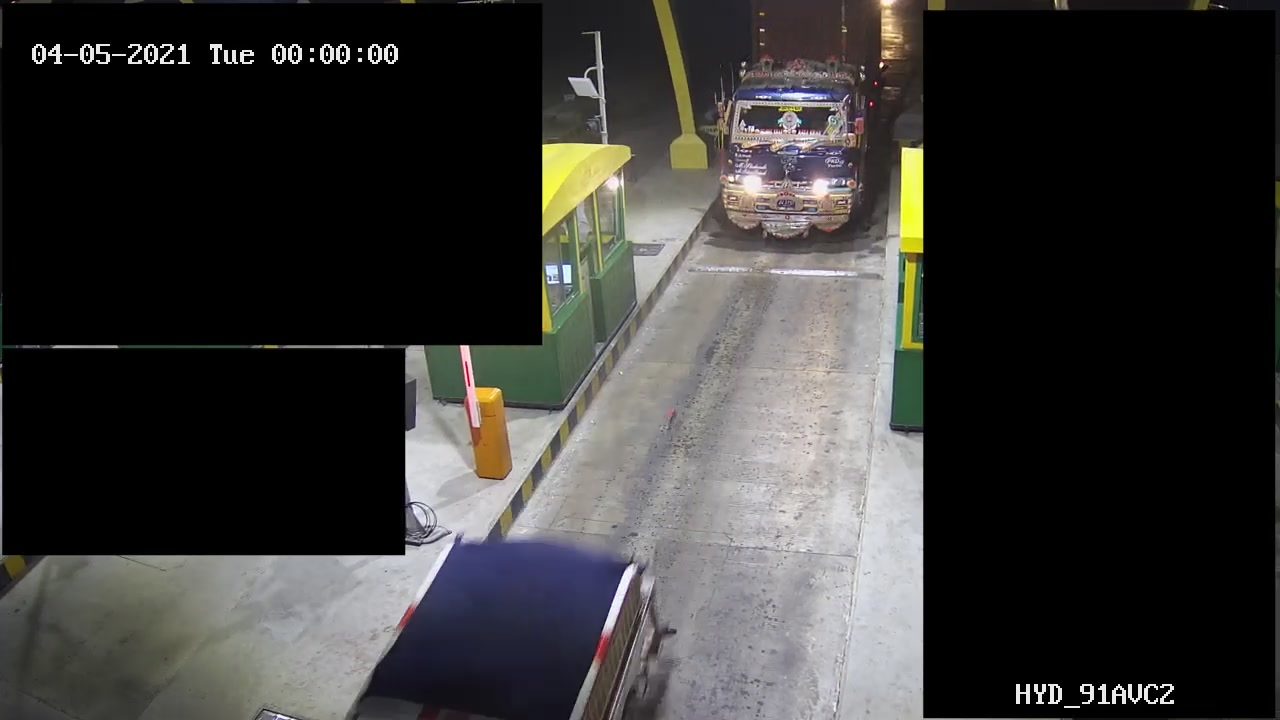F6: (718, 1, 886, 244)
